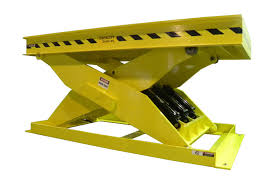Scissor Lift: (22, 13, 252, 171)
